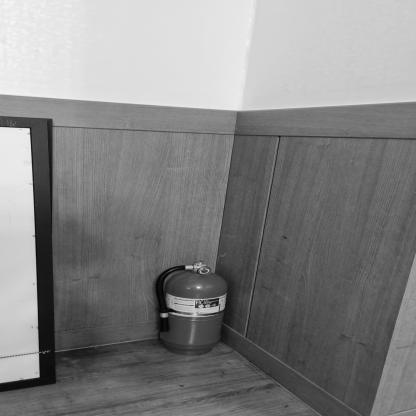FE: (157, 264, 229, 356)
